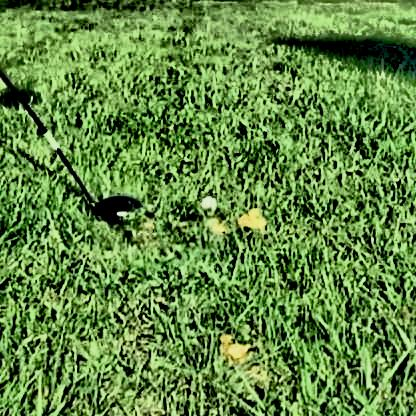golfball: (198, 192, 215, 211)
